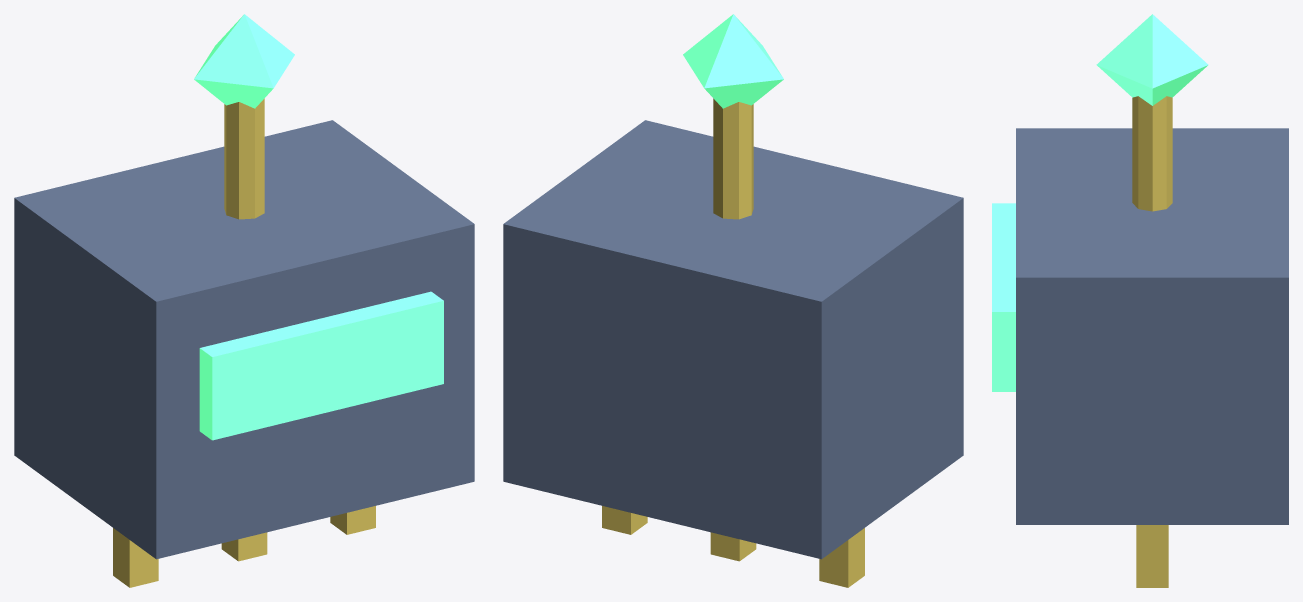
File: station0_electronics_lab.glb
3 views of the same model, side by side, from view 1: azimuth 30°, elevation 25°; view 2: azimuth 150°, elevation 25°; view 3: azimuth 270°, elevation 25° (orthographic). The views are drawn at different scales.
Parts seen in each view (by area): view 1: StationArtifact; view 2: StationArtifact; view 3: StationArtifact.
Boxes of the visible parts, x1,y1,x2,y2 form: StationArtifact: [14, 14, 474, 587]; StationArtifact: [503, 14, 963, 587]; StationArtifact: [992, 14, 1288, 587].
Size of the model in its own units: 0.44 by 0.71 by 0.37.
